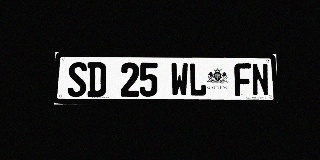2: (121, 62, 139, 97)
5: (140, 62, 158, 97)
D: (87, 62, 106, 97)
F: (234, 63, 252, 96)
L: (189, 63, 207, 96)
N: (252, 63, 269, 96)
S: (67, 62, 87, 97)
W: (171, 63, 188, 96)
